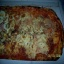pizza: (1, 9, 61, 58)
